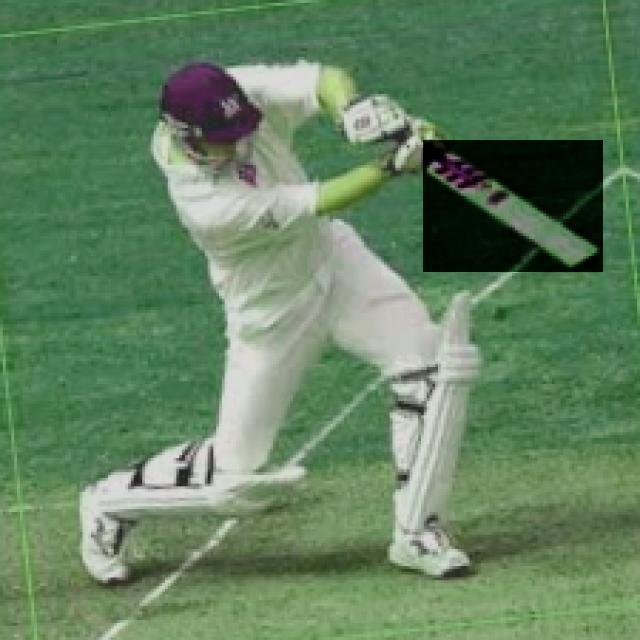bat: (423, 136, 603, 271)
toe: (564, 240, 605, 273)
